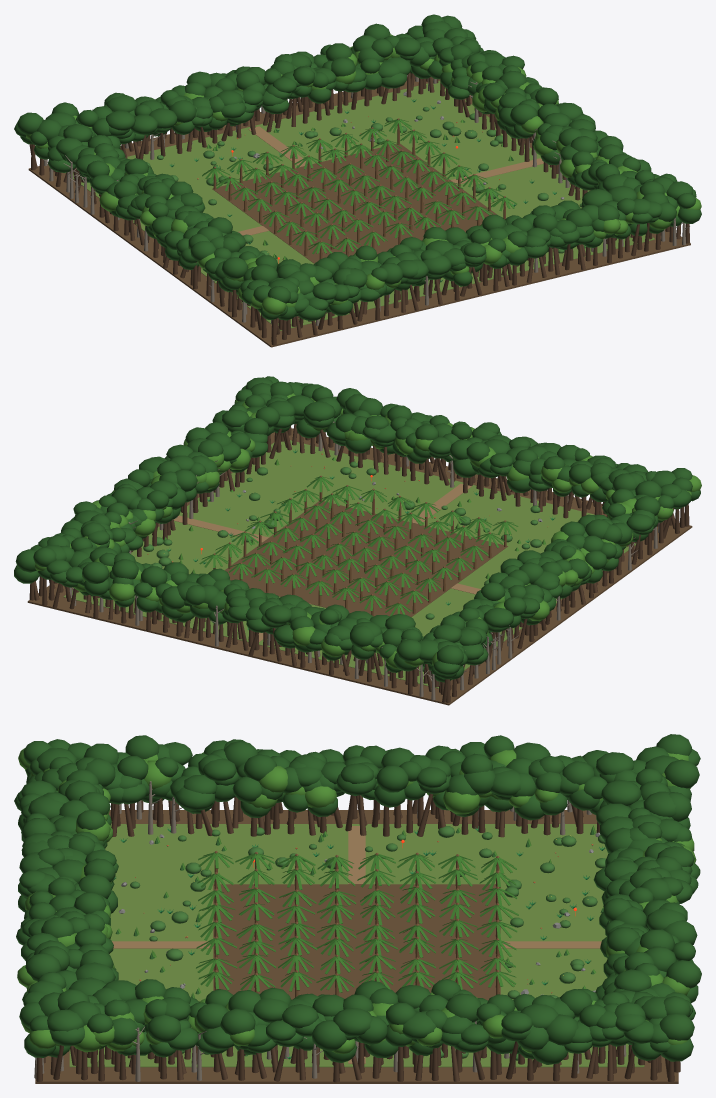
File: sabuk-hutan.glb
3 renders of one model, top to bottom at view 1: azimuth 30°, elevation 25°; view 2: azimuth 150°, elevation 25°; view 3: azimuth 270°, elevation 25°, orthographic. The views are drawn at different scales.
Parts seen in each view (by area): view 1: dinding_hutan_daun_tua, rumput_blok, dinding_hutan_kulit_kayu, lahan_kebun, kebun_sawit_pelepah_sawit, tanah_dasar, dinding_hutan_daun_muda, kebun_sawit_batang_sawit, dinding_hutan_kayu_mati, sabuk_belukar_semak, jalur_jalur_tanah; view 2: dinding_hutan_daun_tua, rumput_blok, dinding_hutan_kulit_kayu, lahan_kebun, kebun_sawit_pelepah_sawit, tanah_dasar, dinding_hutan_daun_muda, kebun_sawit_batang_sawit, dinding_hutan_kayu_mati, sabuk_belukar_semak, jalur_jalur_tanah; view 3: dinding_hutan_daun_tua, rumput_blok, lahan_kebun, kebun_sawit_pelepah_sawit, dinding_hutan_kulit_kayu, tanah_dasar, dinding_hutan_daun_muda, sabuk_belukar_semak, jalur_jalur_tanah, kebun_sawit_batang_sawit, dinding_hutan_kayu_mati, sabuk_belukar_pakis.
Boxes of the visible parts, box(x1,y1,x2,y2) form: dinding_hutan_daun_tua: box(14, 14, 701, 321); rumput_blok: box(65, 81, 655, 330); dinding_hutan_kulit_kayu: box(29, 72, 689, 345); lahan_kebun: box(212, 143, 496, 263); kebun_sawit_pelepah_sawit: box(202, 119, 517, 254); tanah_dasar: box(28, 76, 690, 347); dinding_hutan_daun_muda: box(26, 34, 701, 315); kebun_sawit_batang_sawit: box(213, 118, 505, 259); dinding_hutan_kayu_mati: box(43, 76, 689, 325); sabuk_belukar_semak: box(146, 107, 581, 297); jalur_jalur_tanah: box(238, 126, 543, 235); dinding_hutan_daun_tua: box(14, 376, 700, 682); rumput_blok: box(63, 440, 636, 688); dinding_hutan_kulit_kayu: box(29, 424, 689, 702); lahan_kebun: box(224, 501, 507, 617); kebun_sawit_pelepah_sawit: box(199, 476, 518, 616); tanah_dasar: box(27, 428, 692, 705); dinding_hutan_daun_muda: box(17, 393, 701, 669); kebun_sawit_batang_sawit: box(213, 475, 506, 616); dinding_hutan_kayu_mati: box(69, 421, 663, 700); sabuk_belukar_semak: box(143, 461, 541, 671); jalur_jalur_tanah: box(173, 483, 480, 641); dinding_hutan_daun_tua: box(14, 734, 701, 1064); rumput_blok: box(69, 824, 644, 1067); lahan_kebun: box(213, 884, 500, 1000); kebun_sawit_pelepah_sawit: box(196, 852, 518, 992); dinding_hutan_kulit_kayu: box(36, 793, 680, 1082); tanah_dasar: box(35, 810, 678, 1083); dinding_hutan_daun_muda: box(17, 748, 696, 1054); sabuk_belukar_semak: box(130, 826, 605, 1060); jalur_jalur_tanah: box(112, 826, 601, 1063); kebun_sawit_batang_sawit: box(214, 851, 499, 997); dinding_hutan_kayu_mati: box(26, 755, 661, 1081); sabuk_belukar_pakis: box(114, 826, 605, 1059).
Bounding box in the file's own units: 120 × 15.2 × 120.
